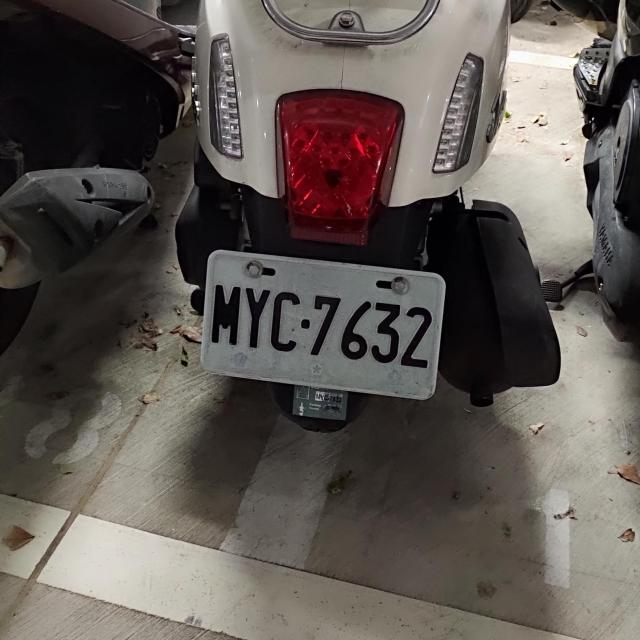W: (196, 246, 450, 397)
